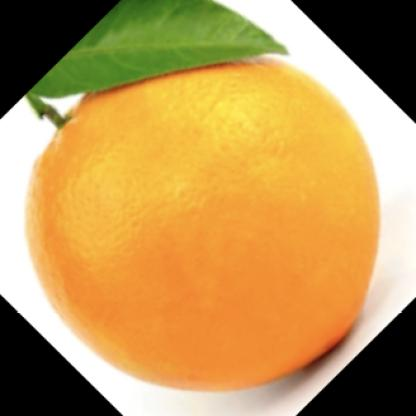fresh: (25, 47, 382, 390)
